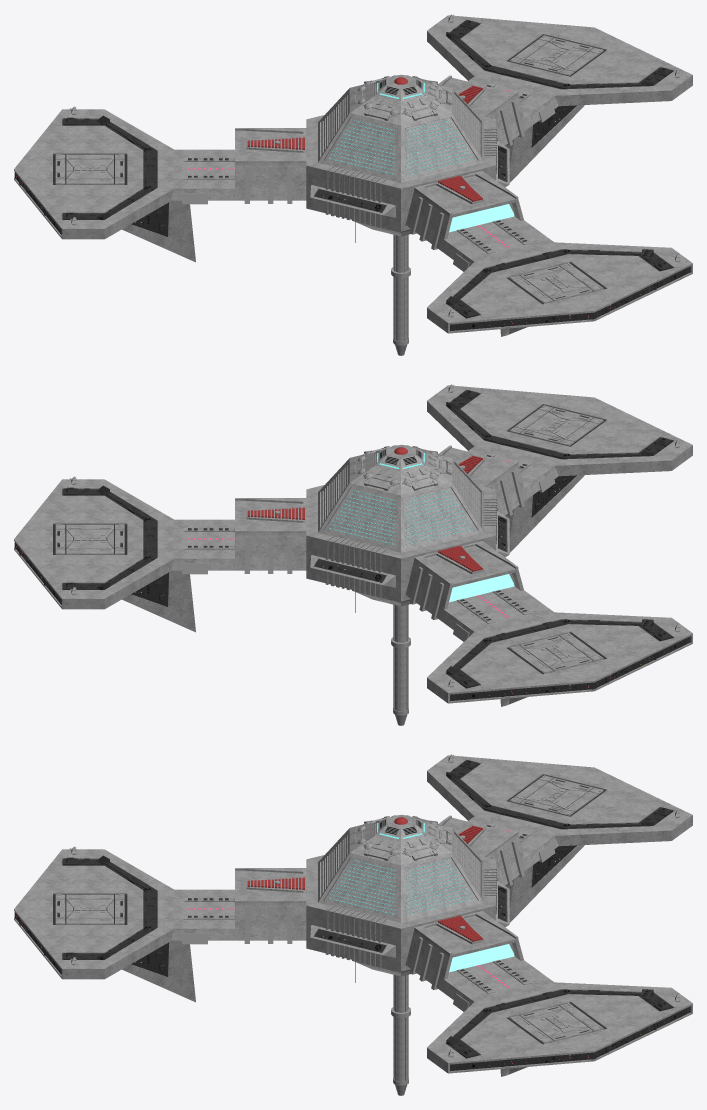
File: star_wars_xq6_platform.glb
The picture shows the model from 3 angles, top to bottom: view 1: azimuth 30°, elevation 25°; view 2: azimuth 150°, elevation 25°; view 3: azimuth 270°, elevation 25°; orthographic projection.
Visible parts, largest first — view 1: Platforms, MainSection, PlatformGreebles2, MainSectionGreebles, MainSection2, PlatformGreebles, MainSectionGreebles2, MainSectionGreebles4; view 2: Platforms, MainSection, PlatformGreebles2, MainSectionGreebles, MainSection2, PlatformGreebles, MainSectionGreebles2, MainSectionGreebles4; view 3: Platforms, MainSection, PlatformGreebles2, MainSectionGreebles, MainSection2, PlatformGreebles, MainSectionGreebles2, MainSectionGreebles4.
Boxes of the visible parts, <box> form: Platforms: <box>14,14,692,336</box>; MainSection: <box>306,74,495,236</box>; PlatformGreebles2: <box>14,100,686,330</box>; MainSectionGreebles: <box>322,75,479,228</box>; MainSection2: <box>391,77,410,355</box>; PlatformGreebles: <box>187,85,508,247</box>; MainSectionGreebles2: <box>310,141,509,217</box>; MainSectionGreebles4: <box>316,146,506,242</box>; Platforms: <box>14,384,692,706</box>; MainSection: <box>306,444,495,606</box>; PlatformGreebles2: <box>14,470,686,700</box>; MainSectionGreebles: <box>322,445,479,598</box>; MainSection2: <box>391,447,410,725</box>; PlatformGreebles: <box>187,455,508,617</box>; MainSectionGreebles2: <box>310,511,509,587</box>; MainSectionGreebles4: <box>316,516,506,612</box>; Platforms: <box>14,754,692,1076</box>; MainSection: <box>306,814,495,976</box>; PlatformGreebles2: <box>14,840,686,1070</box>; MainSectionGreebles: <box>322,815,479,968</box>; MainSection2: <box>391,817,410,1095</box>; PlatformGreebles: <box>187,825,508,987</box>; MainSectionGreebles2: <box>310,881,509,957</box>; MainSectionGreebles4: <box>316,886,506,982</box>.
Size of the model in its own units: 1045 by 437 by 975.
Materials: 8 (3 with a texture image).
